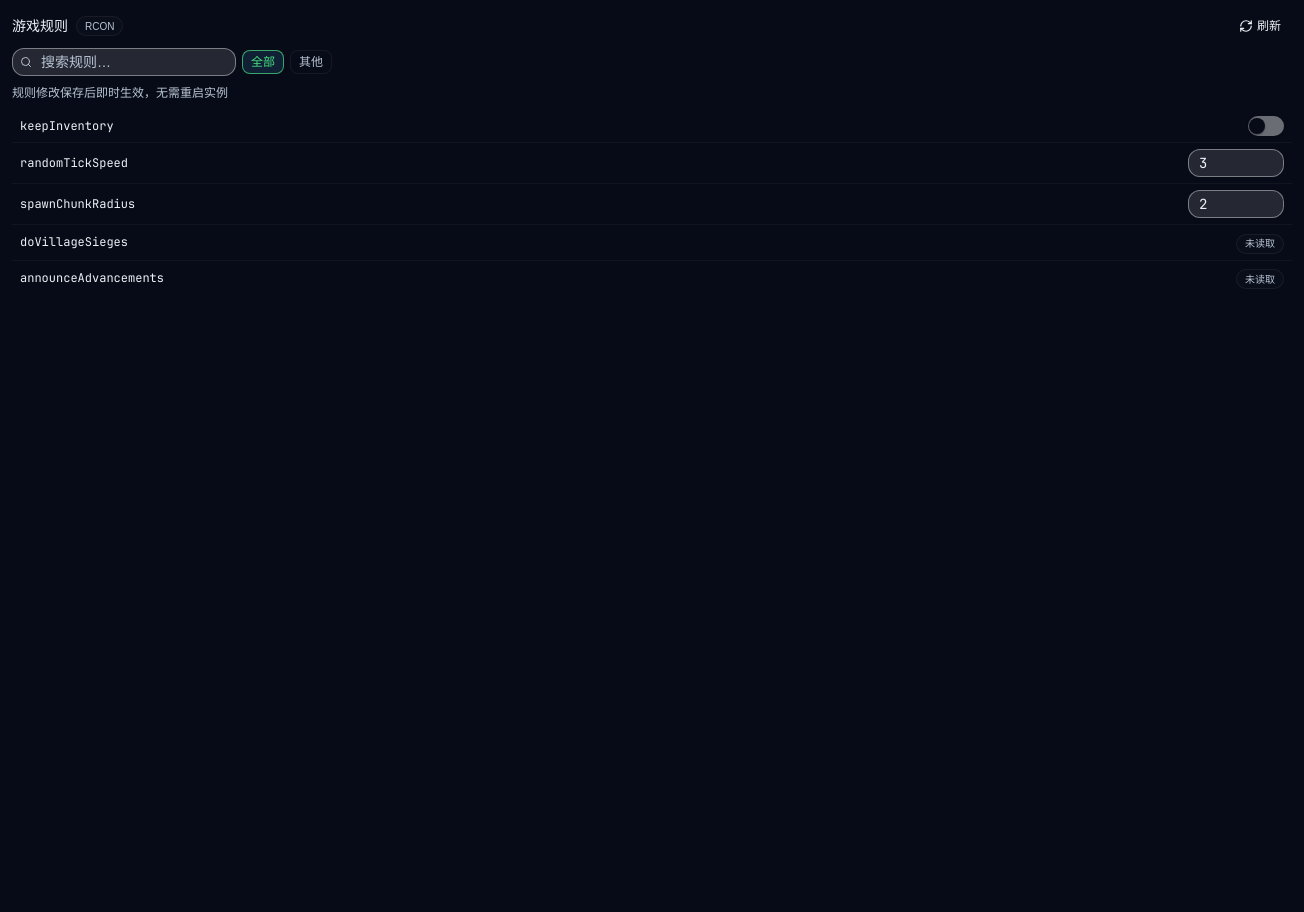
Scenario: GamerulePanel 行级编辑 › 保存失败：toast 友好错误 + 退出编辑态（不回写本地值）
Expected: the text "keepInventory" is shown, top-left (20, 118), bottom-right (114, 134)
Step 1. Click the switch named "keepInventory 开关" → (1266, 126), box top-left (1248, 116), bottom-right (1284, 136)
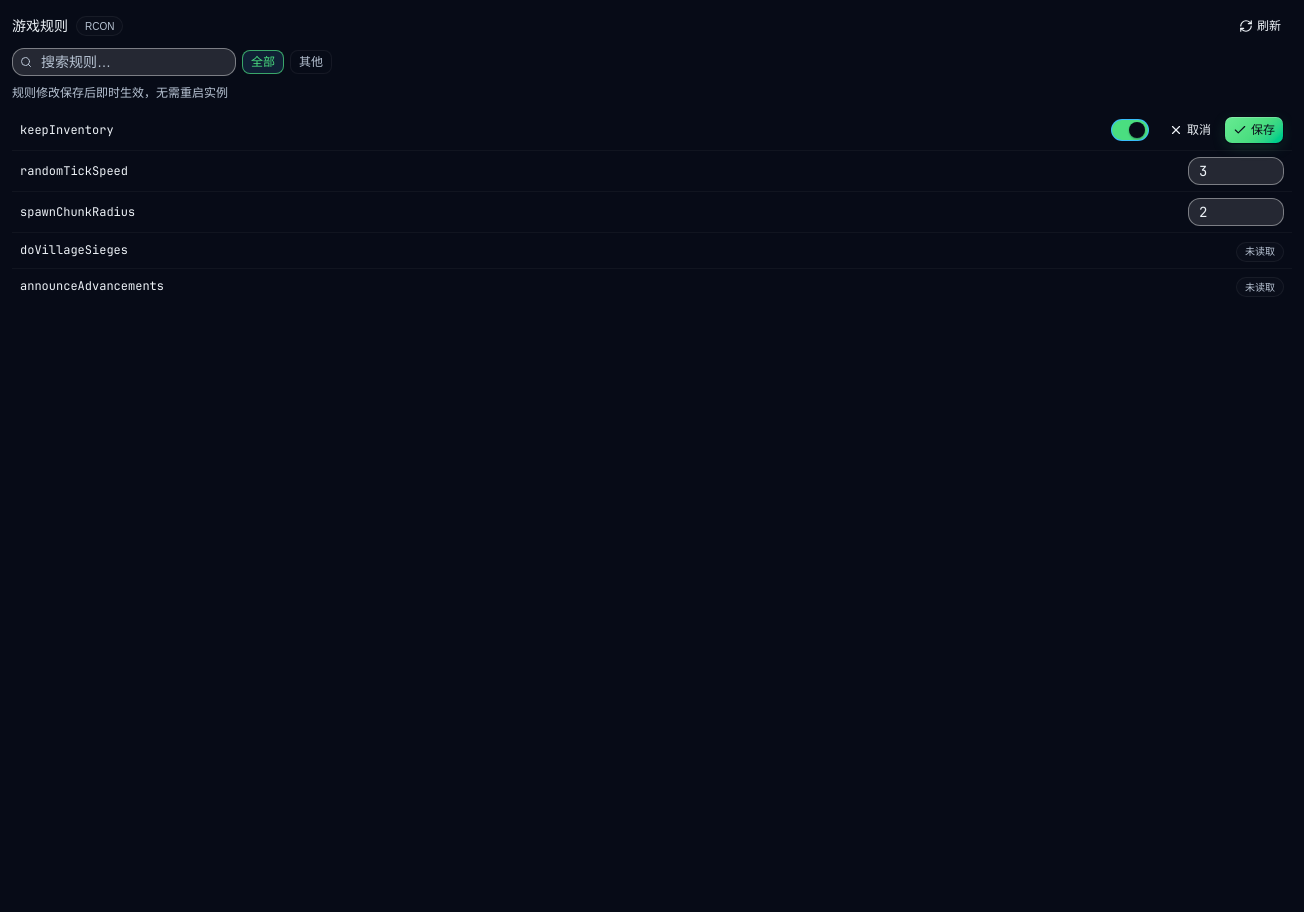
Step 2. Click the button "保存" → (1254, 130), box top-left (1224, 116), bottom-right (1284, 144)
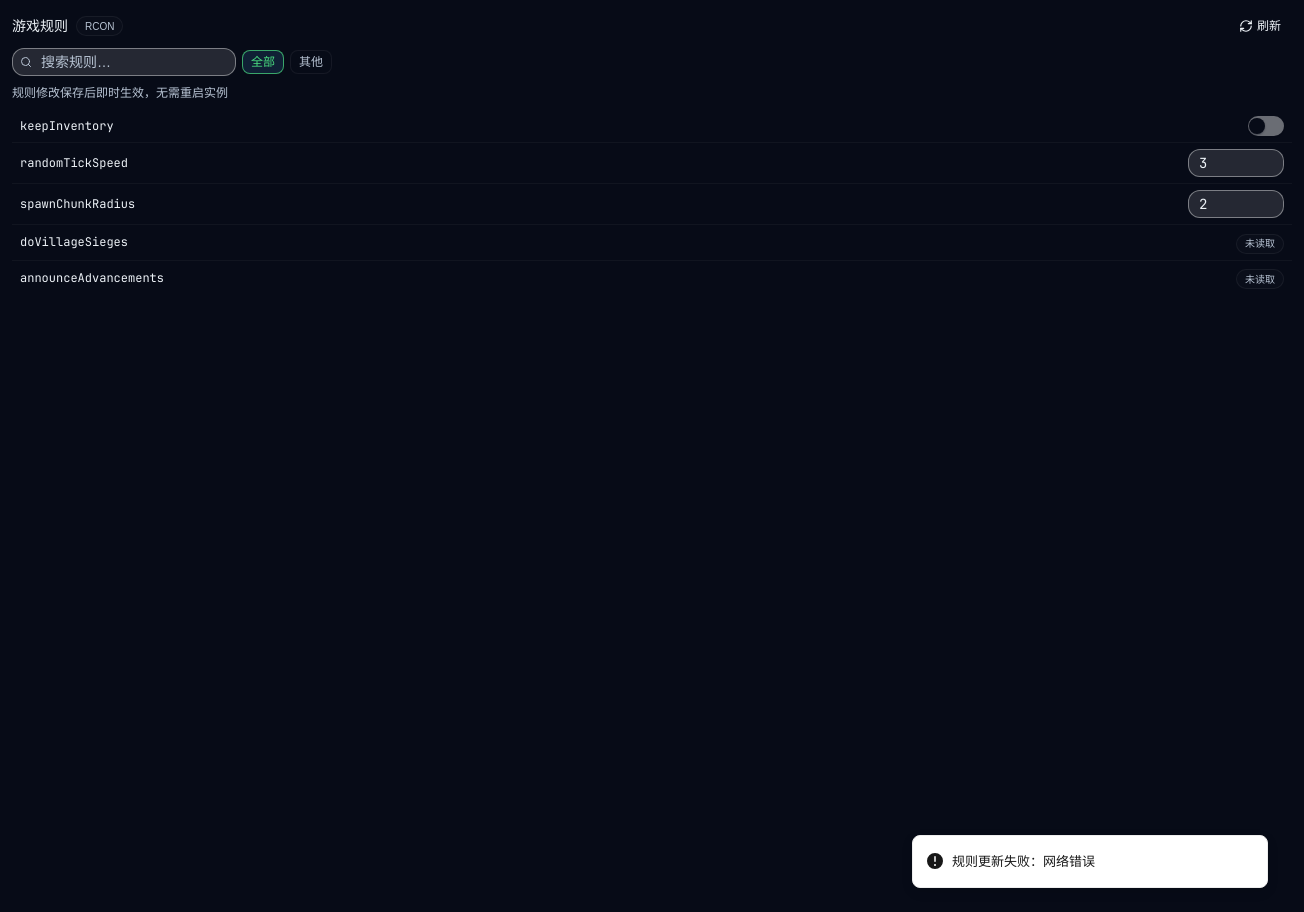
Expected: the text "规则更新失败：网络错误" is shown, top-left (952, 852), bottom-right (1095, 871)
